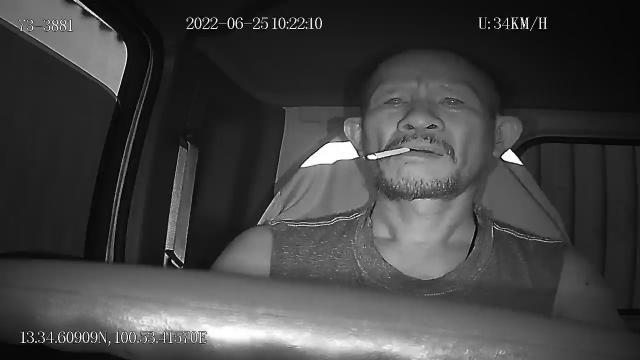SafeDriving: (434, 87, 472, 114), (378, 87, 414, 113)
Smoking: (366, 148, 408, 160)
